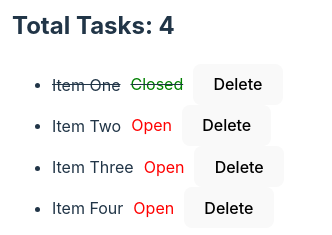
Test case: TodoList Component › deletes a todo item
Expected: the text "Item One" is shown, top-left (52, 74), bottom-right (120, 94)
Expected: the text "Item Two" is shown, top-left (52, 115), bottom-right (121, 135)
What coordinates should you click on to do the following:
click the button "Delete" in the row of "Item Two"
I would click on:
 (227, 125)
Its box is top-left (182, 105), bottom-right (271, 146).
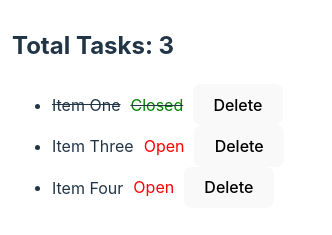
Expected: the text "Item One" is shown, top-left (52, 95), bottom-right (120, 115)
Expected: the text "Item Two" is gone
